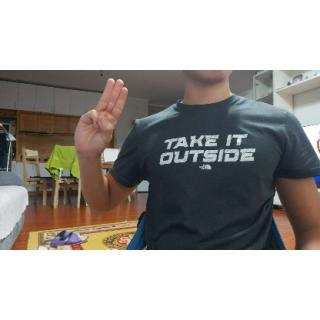THA: (67, 74, 135, 167)
